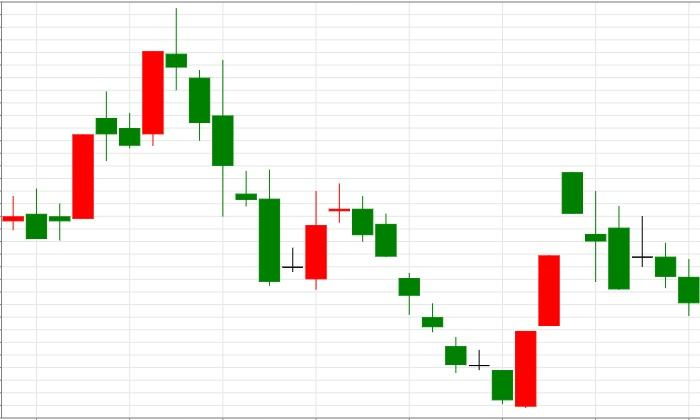bullish_engulfing_rise: (352, 195, 537, 407)
